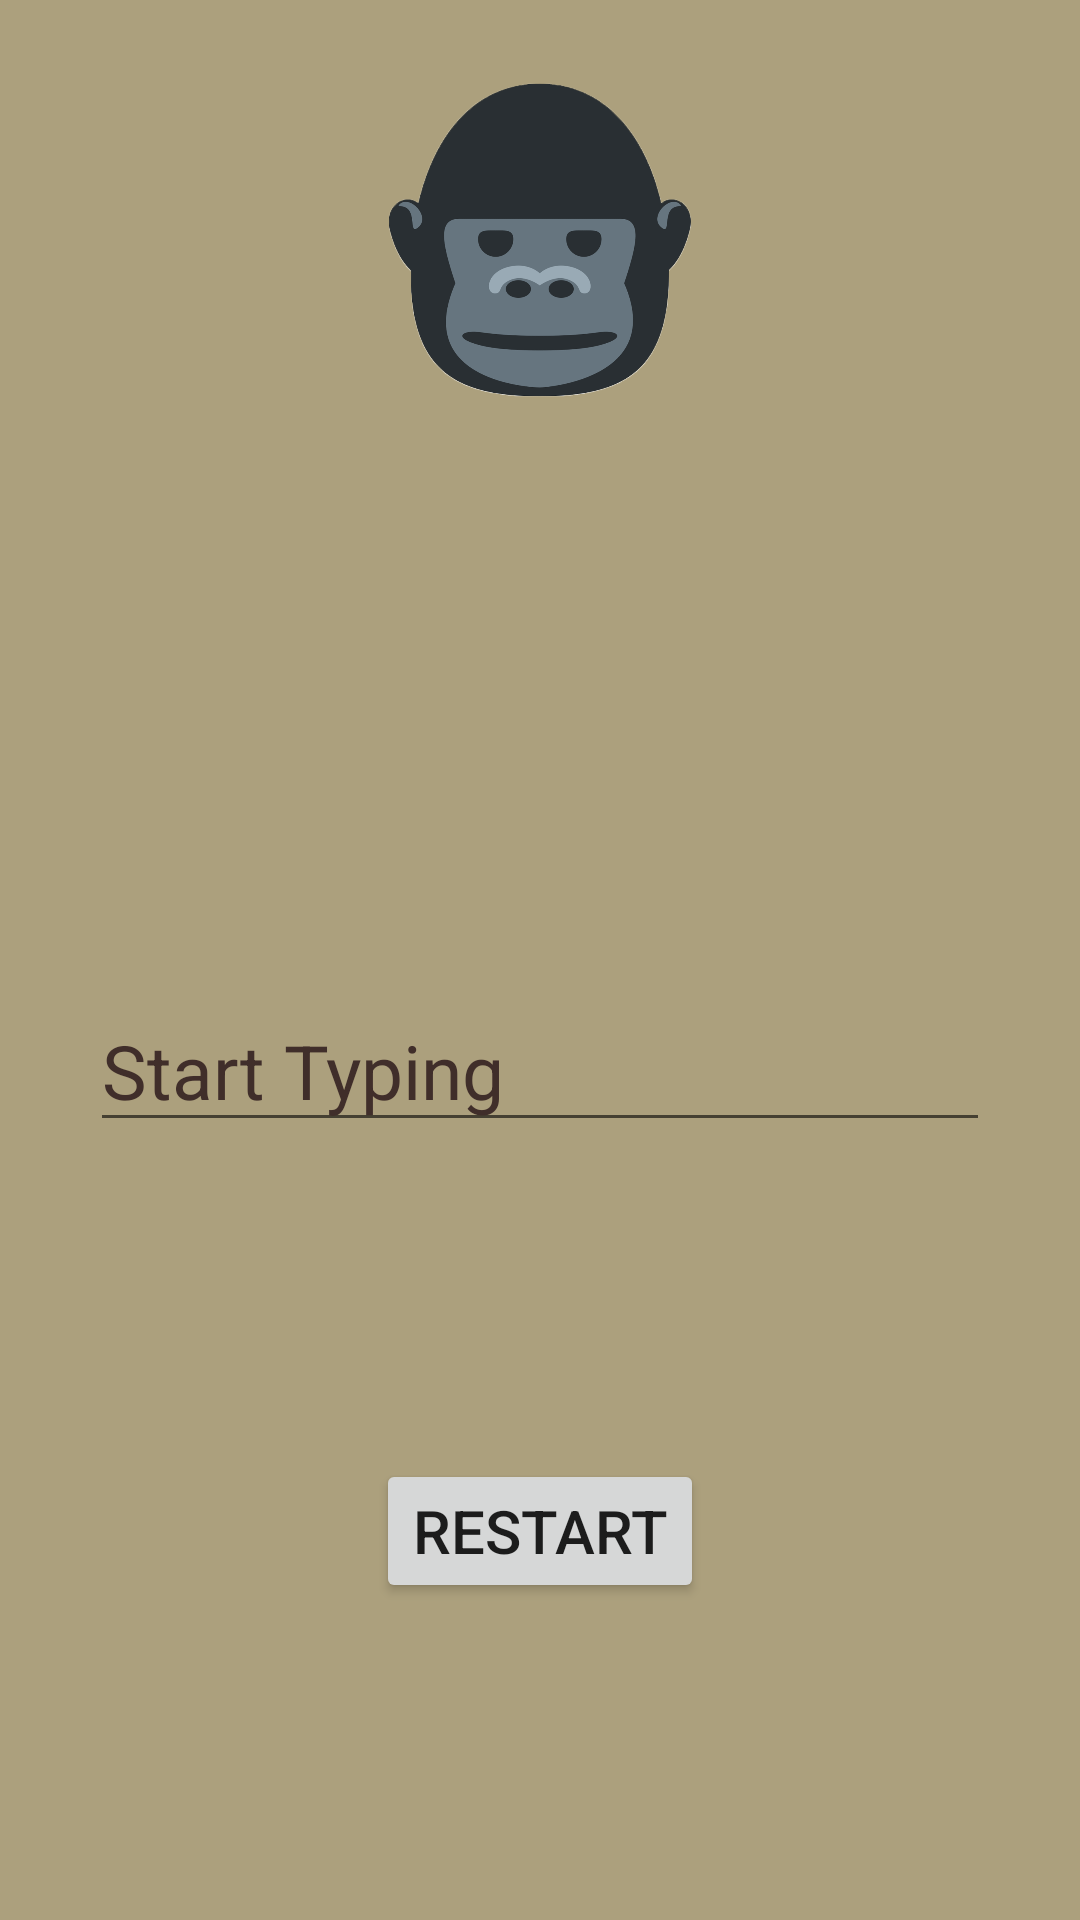

Screen size 1080x1920. Icon name, then its box in pixels as (x1, y1, x2, y2):
gorila: (389, 84, 691, 396)
